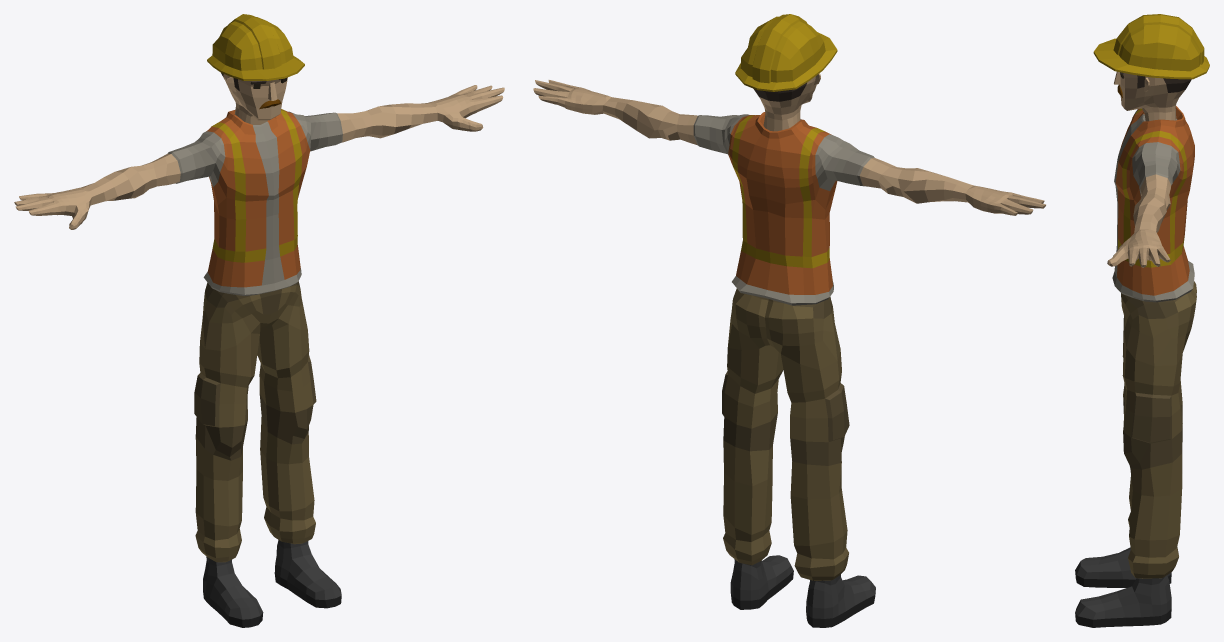
The model's file is worker.glb.
The picture shows the model from 3 angles, left to right: view 1: azimuth 30°, elevation 25°; view 2: azimuth 150°, elevation 25°; view 3: azimuth 270°, elevation 25°; orthographic projection. The views are drawn at different scales.
Parts seen in each view (by area): view 1: Worker_Legs_a9a90a, Worker_Body_5c886c, Worker_Body_83581d, Worker_Body, Worker_Legs_0c4fe1, Worker_Head_b2a823, Worker_Feet, Worker_Body_c269c1, Worker_Head_8c3aa5, Worker_Feet_87267e; view 2: Worker_Legs_a9a90a, Worker_Body_5c886c, Worker_Body_83581d, Worker_Head_b2a823, Worker_Body, Worker_Feet, Worker_Legs_0c4fe1, Worker_Body_c269c1, Worker_Head_8c3aa5, Worker_Feet_87267e; view 3: Worker_Legs_a9a90a, Worker_Body_5c886c, Worker_Head_b2a823, Worker_Legs_0c4fe1, Worker_Feet, Worker_Body_83581d, Worker_Body, Worker_Head_8c3aa5, Worker_Body_c269c1, Worker_Feet_87267e, Worker_Head_788fc8.
Boxes of the visible parts, x1=… form: Worker_Legs_a9a90a: x1=195, y1=282, x2=315, y2=562; Worker_Body_5c886c: x1=206, y1=110, x2=310, y2=287; Worker_Body_83581d: x1=14, y1=85, x2=504, y2=229; Worker_Body: x1=167, y1=111, x2=342, y2=295; Worker_Legs_0c4fe1: x1=194, y1=281, x2=316, y2=460; Worker_Head_b2a823: x1=207, y1=14, x2=304, y2=80; Worker_Feet: x1=203, y1=540, x2=341, y2=619; Worker_Body_c269c1: x1=212, y1=109, x2=302, y2=262; Worker_Head_8c3aa5: x1=223, y1=74, x2=287, y2=124; Worker_Feet_87267e: x1=203, y1=574, x2=341, y2=627; Worker_Legs_a9a90a: x1=723, y1=289, x2=848, y2=580; Worker_Body_5c886c: x1=728, y1=112, x2=837, y2=294; Worker_Body_83581d: x1=533, y1=80, x2=1045, y2=215; Worker_Head_b2a823: x1=735, y1=14, x2=837, y2=91; Worker_Body: x1=693, y1=114, x2=874, y2=305; Worker_Feet: x1=730, y1=555, x2=875, y2=618; Worker_Legs_0c4fe1: x1=722, y1=289, x2=849, y2=465; Worker_Body_c269c1: x1=732, y1=115, x2=829, y2=268; Worker_Head_8c3aa5: x1=759, y1=73, x2=820, y2=131; Worker_Feet_87267e: x1=731, y1=571, x2=875, y2=627; Worker_Legs_a9a90a: x1=1121, y1=281, x2=1196, y2=578; Worker_Body_5c886c: x1=1115, y1=106, x2=1194, y2=295; Worker_Head_b2a823: x1=1093, y1=14, x2=1209, y2=79; Worker_Legs_0c4fe1: x1=1123, y1=295, x2=1183, y2=469; Worker_Feet: x1=1075, y1=547, x2=1171, y2=619; Worker_Body_83581d: x1=1107, y1=174, x2=1171, y2=267; Worker_Body: x1=1112, y1=109, x2=1194, y2=302; Worker_Head_8c3aa5: x1=1114, y1=71, x2=1185, y2=121; Worker_Body_c269c1: x1=1118, y1=108, x2=1187, y2=267; Worker_Feet_87267e: x1=1075, y1=570, x2=1171, y2=627; Worker_Head_788fc8: x1=1120, y1=72, x2=1191, y2=92.
Bounding box in the file's own units: 1.68 × 1.87 × 0.3892.
